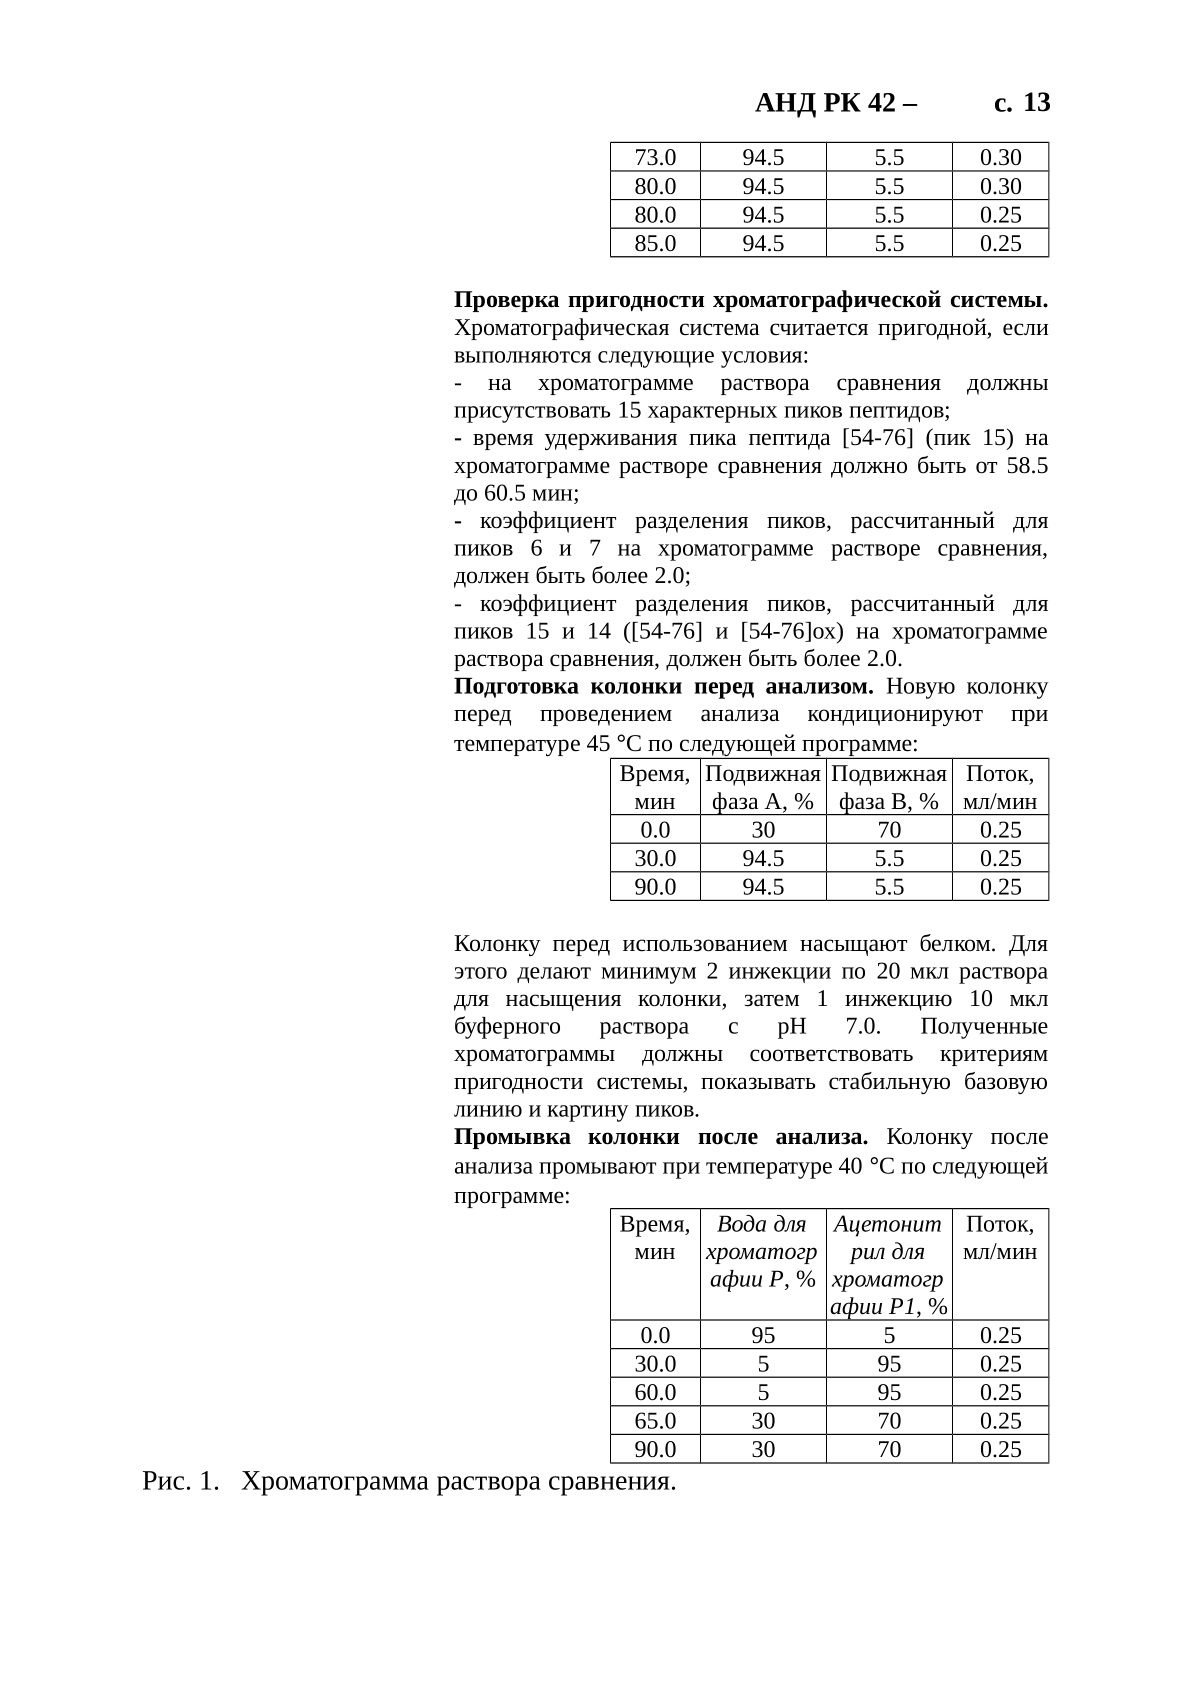full_lined: (609, 1208, 1051, 1466), (609, 757, 1050, 903), (609, 142, 1050, 257)
